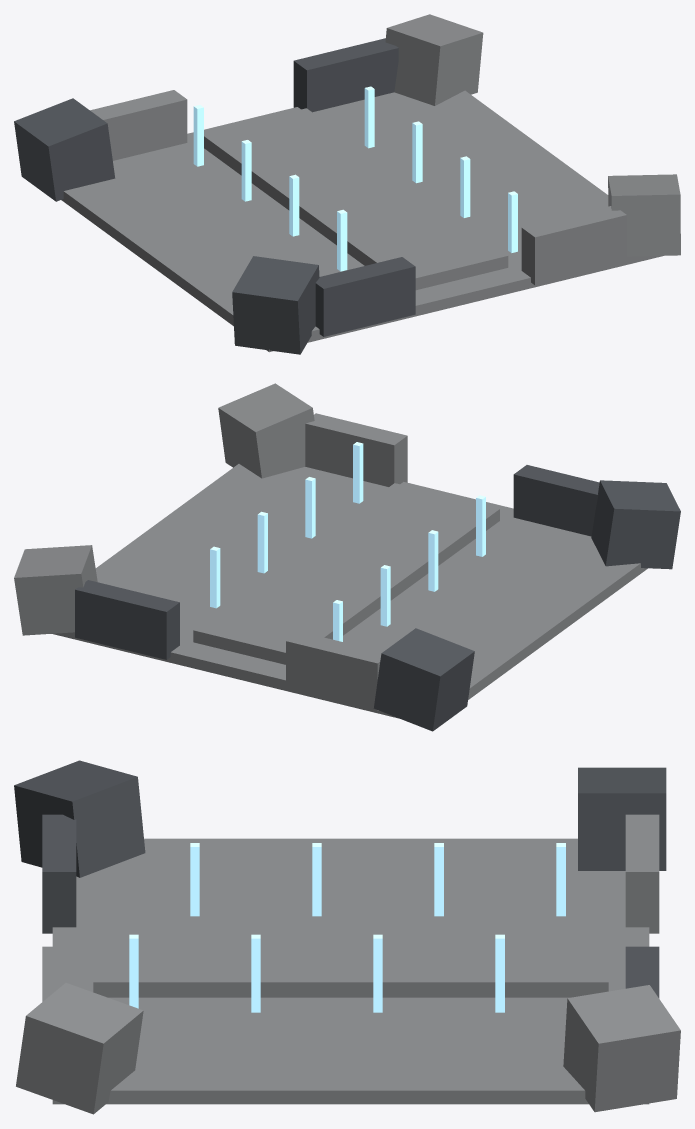
3 renders of one model, top to bottom at view 1: azimuth 30°, elevation 25°; view 2: azimuth 150°, elevation 25°; view 3: azimuth 270°, elevation 25°, orthographic. The views are drawn at different scales.
Visible parts, largest first — view 1: DistrictFloor, GallerySpine, BoundaryMass0, BoundaryMass2, BoundaryMass1, BoundaryNorthEast, BoundaryNorthWest, BoundarySouthEast, BoundaryMass3, BoundarySouthWest, GalleryRod2, GalleryRod0 (+6 smaller); view 2: DistrictFloor, GallerySpine, BoundaryMass0, BoundaryMass2, BoundaryMass3, BoundarySouthEast, BoundaryMass1, BoundarySouthWest, BoundaryNorthEast, BoundaryNorthWest, GalleryRod1, GalleryRod7 (+5 smaller); view 3: DistrictFloor, GallerySpine, BoundaryMass1, BoundaryMass3, BoundaryMass2, BoundaryMass0, BoundarySouthWest, BoundaryNorthWest, BoundaryNorthEast, BoundarySouthEast, GalleryRod1, GalleryRod3 (+6 smaller).
Part boxes in pixels (box(x1,y1,x2,y2)): DistrictFloor: box(61, 90, 663, 352); GallerySpine: box(204, 108, 508, 290); BoundaryMass0: box(14, 98, 115, 201); BoundaryMass2: box(232, 256, 319, 354); BoundaryMass1: box(385, 14, 483, 105); BoundaryNorthEast: box(521, 206, 626, 285); BoundaryNorthWest: box(315, 257, 415, 336); BoundarySouthEast: box(293, 38, 398, 112); BoundaryMass3: box(608, 174, 680, 256); BoundarySouthWest: box(90, 90, 187, 160); GalleryRod2: box(241, 140, 251, 201); GalleryRod0: box(193, 105, 203, 166); DistrictFloor: box(52, 464, 647, 718); GallerySpine: box(193, 483, 499, 664); BoundaryMass0: box(373, 628, 474, 731); BoundaryMass2: box(591, 480, 680, 569); BoundaryMass3: box(218, 383, 314, 478); BoundarySouthEast: box(75, 580, 179, 659); BoundaryMass1: box(14, 545, 97, 635); BoundarySouthWest: box(286, 631, 382, 711); BoundaryNorthEast: box(305, 413, 407, 486); BoundaryNorthWest: box(513, 465, 599, 536); GalleryRod1: box(210, 546, 220, 608); GalleryRod7: box(353, 442, 363, 503); DistrictFloor: box(52, 838, 649, 1104); GallerySpine: box(93, 916, 608, 997); BoundaryMass1: box(563, 985, 680, 1112); BoundaryMass3: box(16, 983, 143, 1114); BoundaryMass2: box(14, 760, 145, 877); BoundaryMass0: box(578, 767, 666, 870); BoundarySouthWest: box(625, 814, 659, 933); BoundaryNorthWest: box(42, 814, 76, 933); BoundaryNorthEast: box(42, 946, 76, 1001); BoundarySouthEast: box(625, 946, 659, 998); GalleryRod1: box(495, 934, 504, 1012); GalleryRod3: box(373, 934, 382, 1012).
Bounding box in the file's own units: 98.87 × 14.2 × 98.37.
